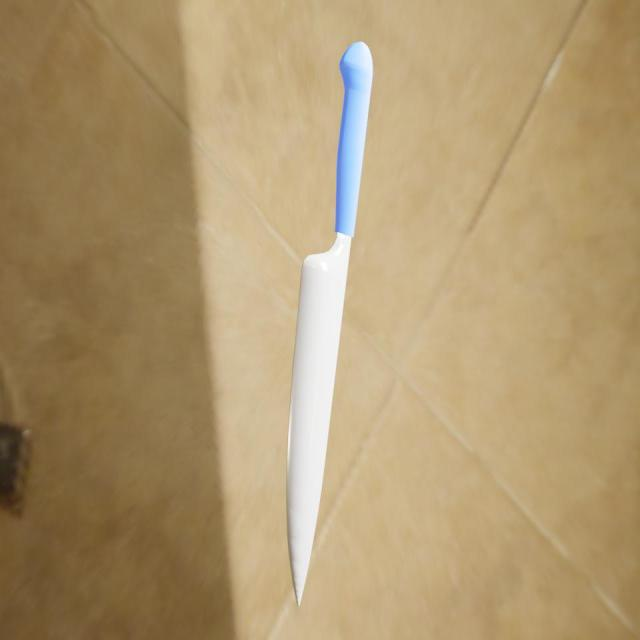knife: (335, 41, 373, 238)
